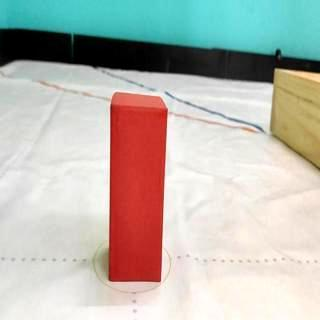redbox: (109, 92, 169, 280)
